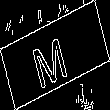M_N: (34, 23, 76, 87)
